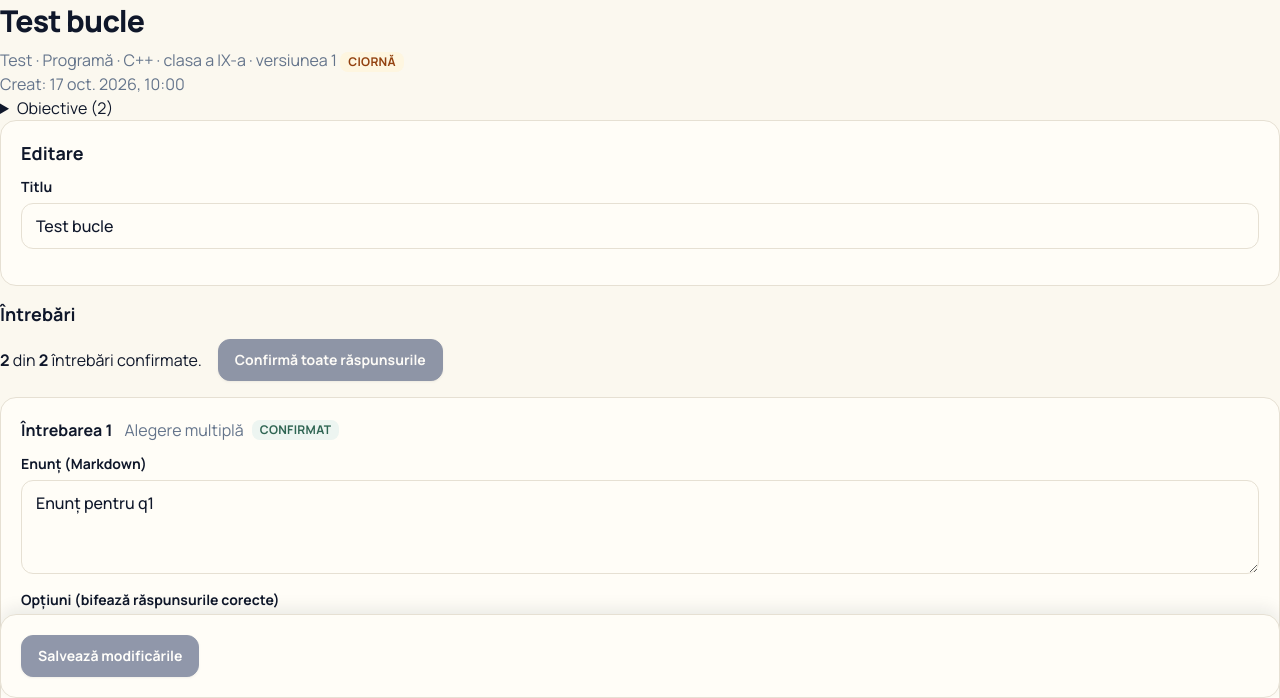
it: publish gating › editing a confirmed question and saving puts it back to unconfirmed, which blocks Publish again
Replace the text in the text box labelled "Enunț (Markdown)" with "Enunț schimbat" at (640, 527), box [21,480,1259,574]
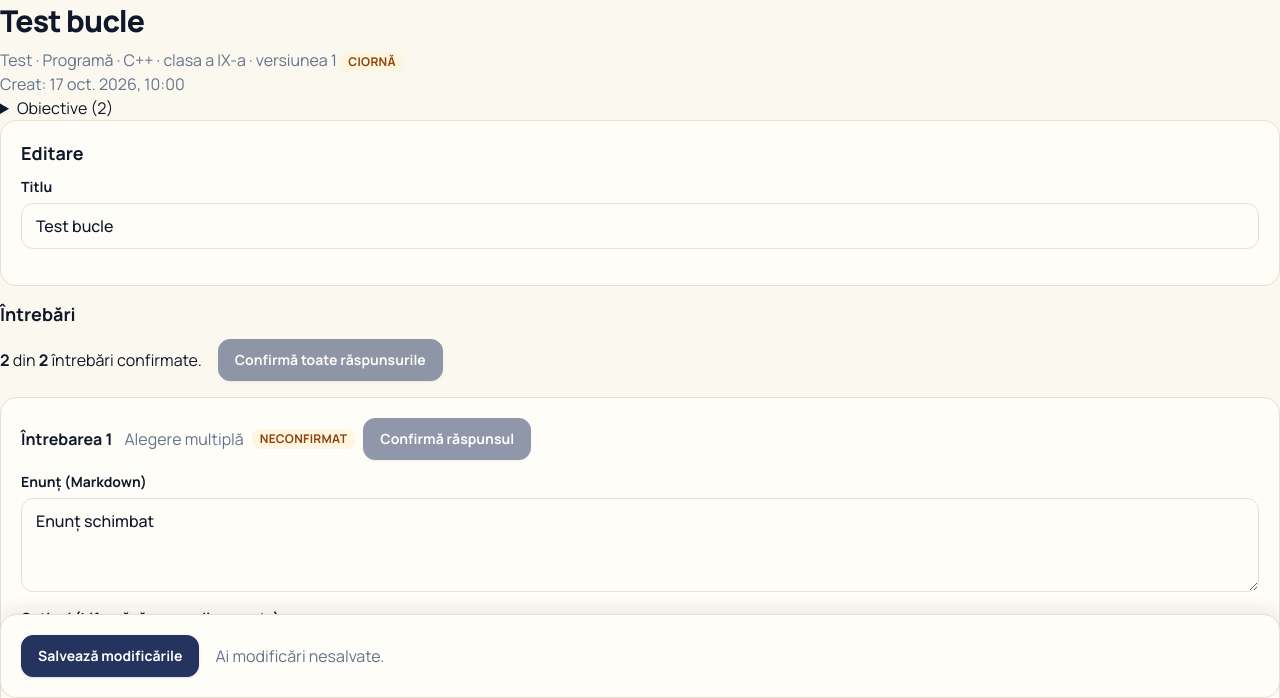
Click the button "Salvează modificările" at (110, 656), box [21,635,200,677]
(page scrolled)
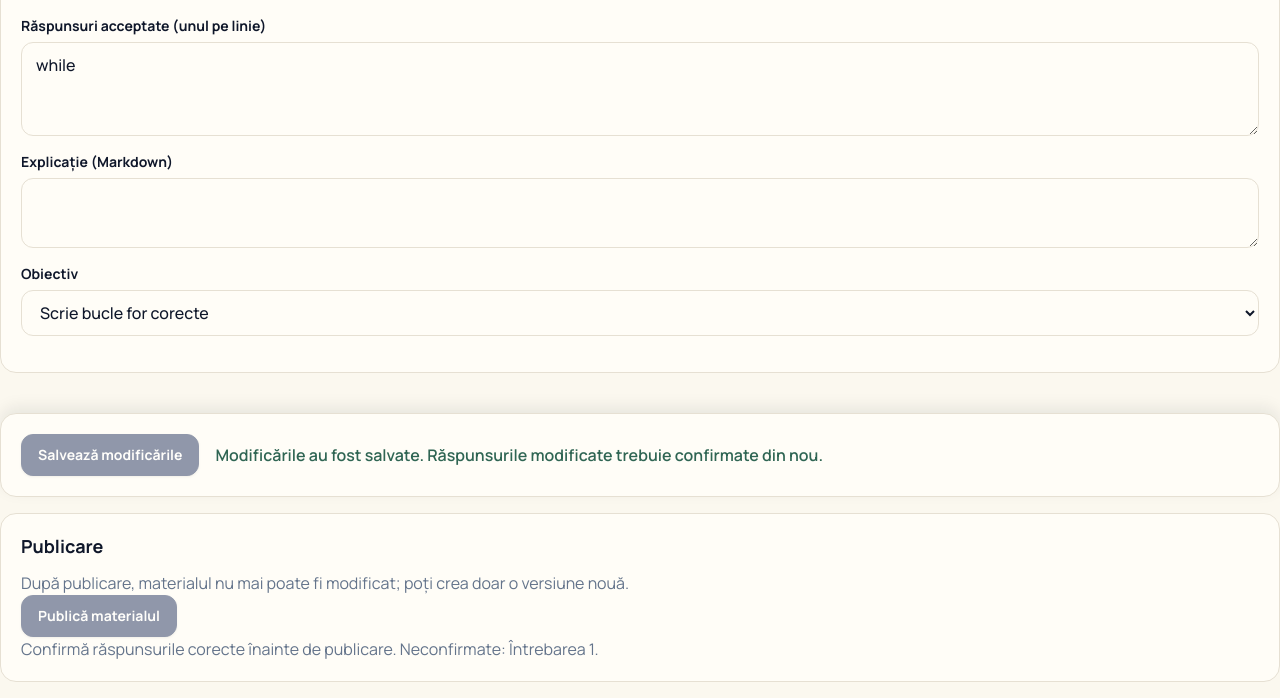
Expected: the button "Publică materialul" is disabled, [21,595,177,637]
Expected: the text "Neconfirmate: Întrebarea 1." is shown, [21,638,598,660]
